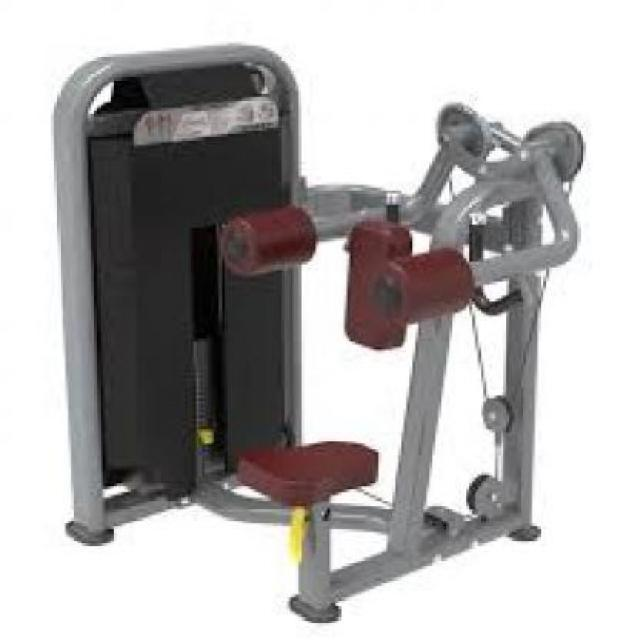lateral raises machine: (49, 40, 586, 622)
